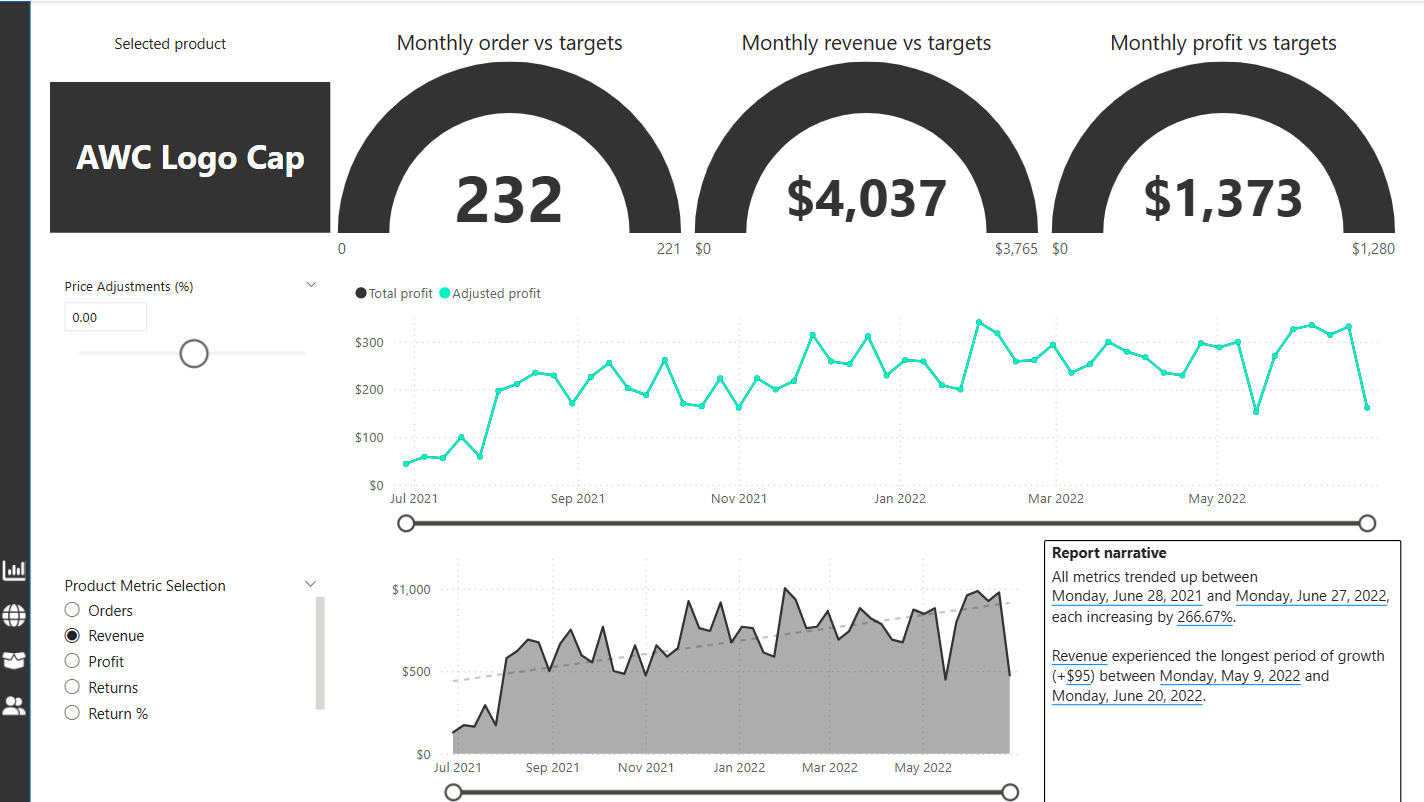

Layout of this report page (visuals, bound fields, positions):
{"tool":"powerbi","page":{"name":"Product detail","canvas":[1280,720],"ordinal":2},"visuals":[{"type":"shape","box":[0,0,29.1,720],"z":0},{"type":"actionButton","box":[0,489.9,28.7,40.3],"z":0,"group":"g1"},{"type":"gauge","title":"Monthly order vs targets","fields":{"Y":["Measure Table.Total orders"],"MaxValue":["Measure Table.Order Target"]},"box":[298.3,24.2,319.5,215.7],"z":1000},{"type":"actionButton","box":[0,530.2,28.7,40.3],"z":1000,"group":"g1"},{"type":"gauge","title":"Monthly revenue vs targets","fields":{"Y":["Measure Table.Total revenue"],"MaxValue":["Measure Table.Target revenue"]},"box":[617.8,24.2,319.5,215.7],"z":2000},{"type":"actionButton","box":[0,570.5,28.7,40.3],"z":2000,"group":"g1"},{"type":"gauge","title":"Monthly profit vs targets","fields":{"Y":["Measure Table.Total profit"],"MaxValue":["Measure Table.Profit target"]},"box":[937.3,24.2,319.5,215.7],"z":3000},{"type":"actionButton","box":[0,610.8,28.7,40.3],"z":3000,"group":"g1"},{"type":"card","fields":{"Values":["Min(Product Lookup.ProductName)"]},"box":[46.9,72.8,251.4,134.7],"z":4000},{"type":"textbox","box":[99.4,24.2,146,31.3],"z":5000},{"type":"lineChart","title":"Profit trending","fields":{"Category":["Calendar Lookup.Date Hierarchy.Start of Year","Calendar Lookup.Date Hierarchy.Start of Month","Calendar Lookup.Date Hierarchy.Start of Week","Calendar Lookup.Date Hierarchy.Date"],"Y":["Measure Table.Total profit","Measure Table.Adjusted profit"]},"box":[314.3,241.4,942.8,237.4],"z":6000},{"type":"areaChart","title":"Return trending","fields":{"Y":["Measure Table.Total revenue"],"Category":["Calendar Lookup.Date Hierarchy.Start of Year","Calendar Lookup.Date Hierarchy.Start of Month","Calendar Lookup.Date Hierarchy.Start of Week","Calendar Lookup.Date Hierarchy.Date"]},"box":[347.2,482.9,589.6,237.4],"z":7000},{"type":"group","id":"g1","title":"Navigation buttons","box":[0,489.9,28.7,161.2],"z":8000},{"type":"slicer","fields":{"Values":["Price Adjustments (%).Price Adjustments (%)"]},"box":[46.9,241.4,251.4,118.7],"z":9000},{"type":"slicer","fields":{"Values":["Product Metric Selection.Product Metric Selection"]},"box":[46.9,509.8,251.4,141.7],"z":10000},{"type":"textbox","title":"Report narrative","box":[937,483,320,237],"z":11000}]}

Visuals, with their boxes on the page's 1280x720 design canvas (x1, y1, x2, y2). These are canvas units, not pixel positions in the 1424x802 screenshot, which may show the page scaled, cropped or inside an application window:
shape: region(0, 0, 29, 720)
actionButton: region(0, 490, 29, 530)
"Monthly order vs targets" gauge: region(298, 24, 618, 240)
actionButton: region(0, 530, 29, 570)
"Monthly revenue vs targets" gauge: region(618, 24, 937, 240)
actionButton: region(0, 570, 29, 611)
"Monthly profit vs targets" gauge: region(937, 24, 1257, 240)
actionButton: region(0, 611, 29, 651)
card - Min(Product Lookup.ProductName): region(47, 73, 298, 208)
textbox: region(99, 24, 245, 56)
"Profit trending" lineChart: region(314, 241, 1257, 479)
"Return trending" areaChart: region(347, 483, 937, 720)
"Navigation buttons" group: region(0, 490, 29, 651)
slicer - Price Adjustments (%).Price Adjustments (%): region(47, 241, 298, 360)
slicer - Product Metric Selection.Product Metric Selection: region(47, 510, 298, 652)
"Report narrative" textbox: region(937, 483, 1257, 720)
